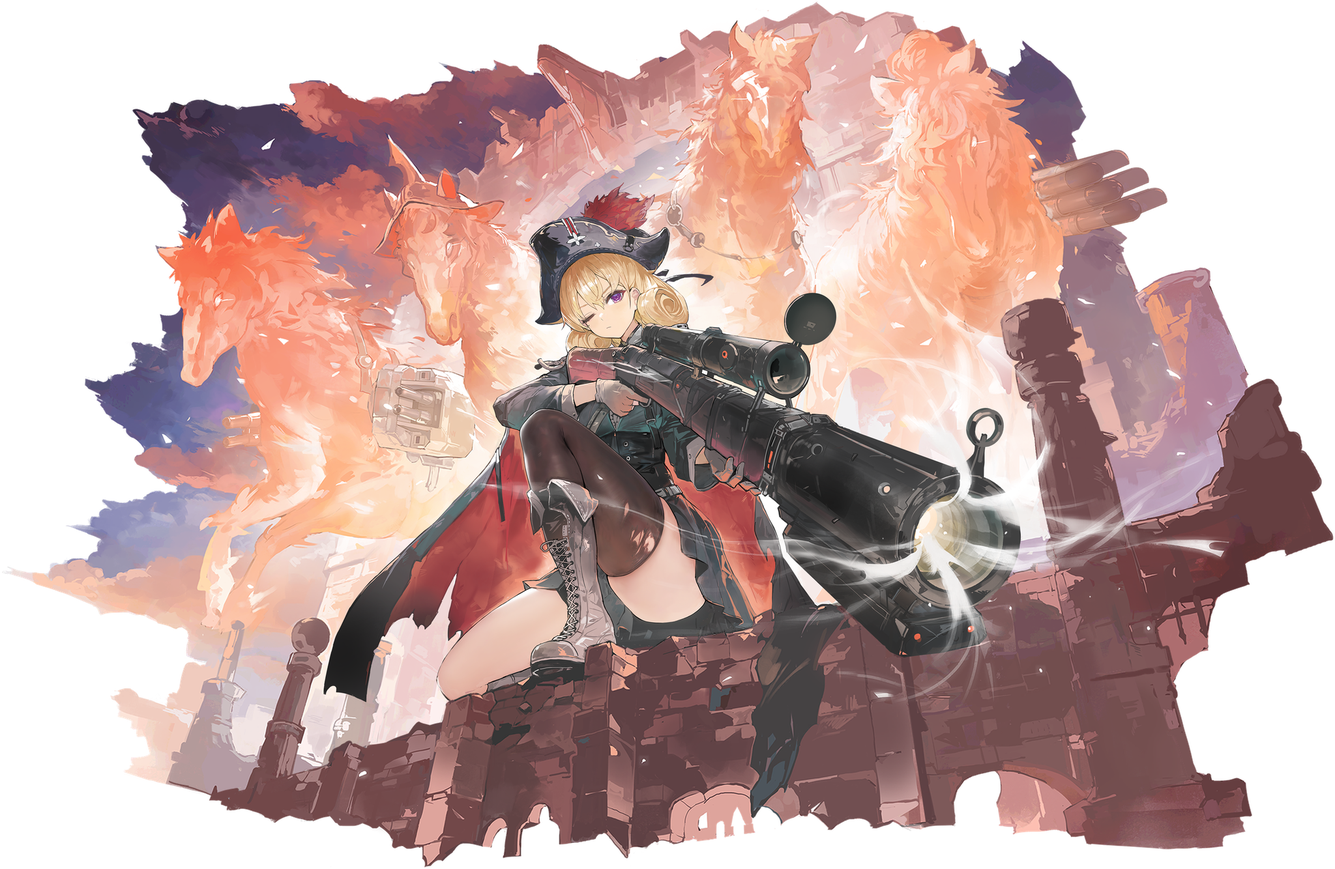person: (402, 216, 778, 866)
